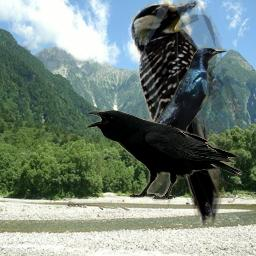Crow: (87, 110, 243, 201), (130, 46, 228, 160)
Woodpecker: (129, 0, 242, 230)
